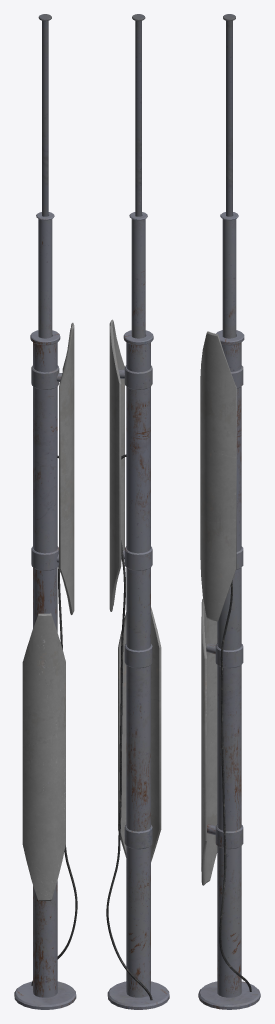
Rendered from KB3D_FTW_PropAntenna_B_grp.glb.
3 renders of one model, left to right at view 1: azimuth 30°, elevation 25°; view 2: azimuth 210°, elevation 25°; view 3: azimuth 270°, elevation 25°, orthographic.
Parts seen in each view (by area): view 1: KB3D_FTW_PropAntenna_B_Main; view 2: KB3D_FTW_PropAntenna_B_Main; view 3: KB3D_FTW_PropAntenna_B_Main.
Part boxes in pixels (x1,y1,x2,y2): KB3D_FTW_PropAntenna_B_Main: [14, 14, 77, 1009]; KB3D_FTW_PropAntenna_B_Main: [106, 14, 169, 1009]; KB3D_FTW_PropAntenna_B_Main: [198, 14, 260, 1009].
Bounding box in the file's own units: 0.2709 × 4.62 × 0.2658.
Materials: 4 (4 with a texture image).
